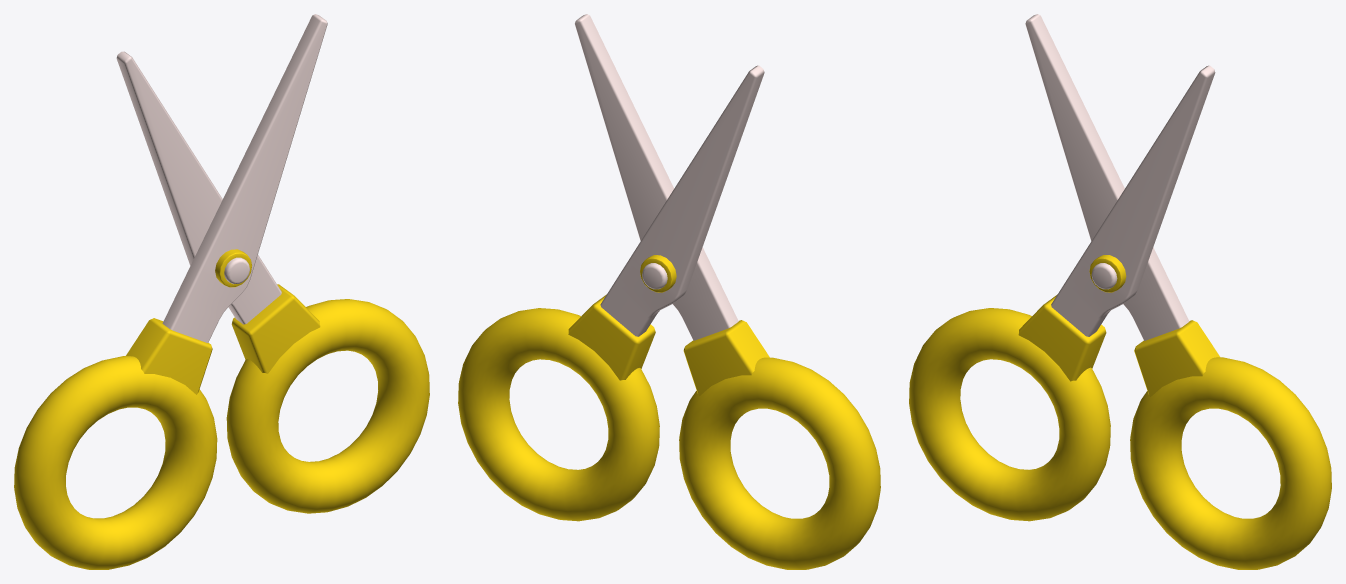
The model's file is Public_15_Big_Scissors_1.glb.
The picture shows the model from 3 angles, left to right: view 1: azimuth 30°, elevation 25°; view 2: azimuth 150°, elevation 25°; view 3: azimuth 330°, elevation 25°; orthographic projection.
Parts seen in each view (by area): view 1: Public_15_Big_Scissors_1; view 2: Public_15_Big_Scissors_1; view 3: Public_15_Big_Scissors_1.
Boxes of the visible parts, bbox=[...] form: Public_15_Big_Scissors_1: bbox=[14, 14, 429, 569]; Public_15_Big_Scissors_1: bbox=[458, 14, 880, 569]; Public_15_Big_Scissors_1: bbox=[909, 14, 1331, 569].
Bounding box in the file's own units: 5.5 × 6.38 × 0.8139.
1 material, 1 textured.
